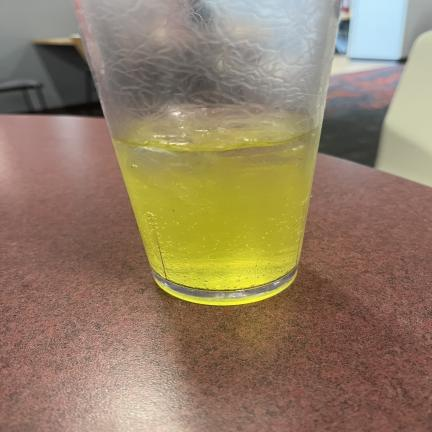container: (76, 0, 339, 306)
fluid: (112, 130, 320, 290)
fluid-surface: (120, 119, 318, 152)
